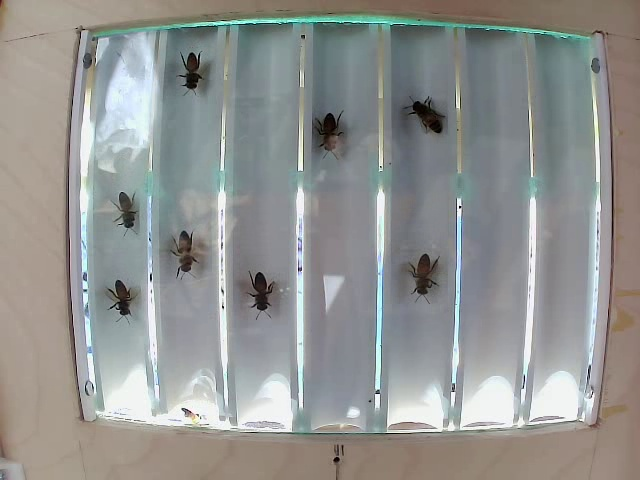bee: (403, 80, 455, 167), (391, 237, 449, 310), (313, 102, 363, 182), (177, 51, 216, 114), (241, 268, 284, 322), (163, 229, 203, 285), (115, 185, 153, 242), (109, 275, 149, 326)
